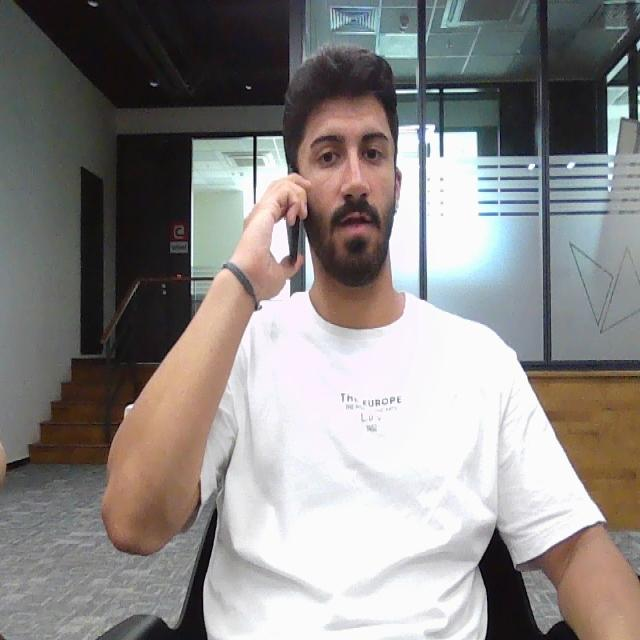phone: (290, 152, 304, 265)
